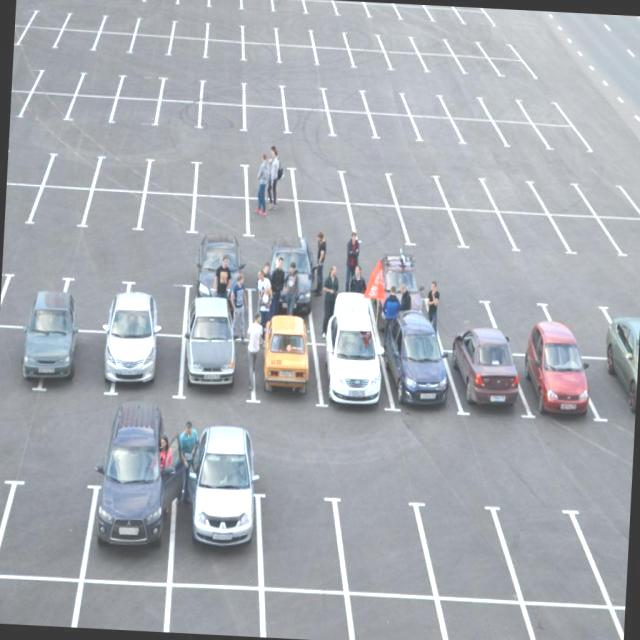car: (172, 462, 264, 594), (88, 456, 174, 580), (316, 340, 389, 416), (453, 348, 523, 427), (384, 346, 455, 422), (514, 348, 588, 420), (181, 269, 255, 337), (250, 256, 314, 330), (46, 324, 108, 398), (114, 333, 180, 401), (256, 340, 320, 410), (192, 332, 252, 406), (372, 269, 428, 336), (589, 352, 638, 420), (0, 325, 44, 398)
free: (246, 477, 356, 601), (412, 487, 518, 611), (489, 494, 607, 604), (336, 482, 430, 607), (1, 462, 85, 580), (543, 293, 619, 363), (582, 508, 630, 611), (254, 592, 355, 640), (0, 265, 66, 336), (60, 272, 128, 340), (169, 586, 259, 636), (358, 592, 451, 640), (535, 592, 626, 640), (486, 288, 556, 350), (442, 598, 544, 640), (73, 583, 161, 631), (428, 284, 498, 344), (122, 275, 182, 338), (309, 274, 368, 338), (184, 191, 253, 241), (502, 206, 567, 258), (552, 212, 615, 258), (88, 192, 145, 242), (0, 583, 66, 626), (396, 206, 462, 248), (34, 183, 88, 233), (346, 203, 406, 247), (246, 198, 302, 244), (576, 178, 640, 218), (44, 149, 100, 192), (138, 196, 193, 239), (530, 176, 594, 212), (454, 208, 506, 250), (96, 152, 147, 194), (479, 178, 545, 210), (304, 200, 354, 242), (386, 172, 446, 207), (612, 292, 640, 366), (432, 176, 495, 207), (147, 159, 197, 197), (245, 168, 297, 203), (288, 170, 344, 202), (194, 162, 248, 195), (6, 148, 52, 186), (283, 102, 329, 140), (109, 95, 162, 127), (20, 91, 76, 121), (538, 125, 592, 156), (342, 172, 396, 202), (454, 118, 504, 150), (514, 95, 568, 124), (4, 184, 35, 234), (324, 109, 375, 139), (412, 114, 463, 144), (497, 122, 548, 152), (600, 218, 640, 256), (199, 98, 245, 130), (69, 93, 116, 123), (478, 98, 532, 124), (371, 110, 417, 140), (118, 70, 164, 98), (362, 88, 409, 115), (442, 94, 490, 120), (155, 98, 201, 125), (245, 104, 288, 132), (24, 22, 64, 52), (324, 84, 368, 110), (242, 80, 286, 106), (34, 68, 82, 91), (76, 72, 123, 95), (202, 79, 243, 105), (282, 84, 326, 108), (96, 30, 138, 55), (163, 74, 203, 100), (314, 45, 354, 71), (402, 94, 451, 115), (418, 52, 462, 75), (443, 36, 489, 58), (171, 34, 207, 62), (132, 32, 172, 57), (274, 46, 318, 68), (409, 34, 452, 56), (64, 10, 106, 32), (204, 38, 244, 61), (12, 66, 46, 92), (58, 28, 98, 50), (134, 17, 174, 39), (241, 39, 281, 61), (474, 40, 518, 60), (492, 56, 532, 78), (307, 28, 350, 48), (345, 31, 385, 52), (102, 14, 140, 36), (25, 10, 71, 28), (208, 19, 243, 42), (351, 50, 391, 70), (454, 58, 498, 76), (238, 22, 280, 40), (378, 35, 419, 53), (173, 16, 208, 37), (276, 26, 316, 44), (387, 55, 425, 73), (269, 0, 307, 18), (302, 0, 339, 18), (10, 86, 28, 121), (369, 5, 402, 23), (456, 11, 494, 26), (336, 6, 374, 20), (238, 0, 274, 14), (207, 0, 247, 11), (428, 12, 463, 24), (400, 8, 431, 21), (175, 0, 209, 11), (13, 24, 28, 48), (142, 0, 182, 8), (16, 10, 38, 24), (420, 5, 454, 13), (443, 6, 481, 13), (77, 0, 116, 6), (112, 0, 150, 6), (356, 2, 394, 8), (390, 3, 420, 10)
